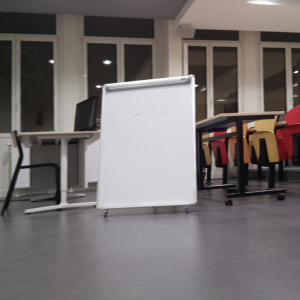big: (98, 80, 201, 210)
